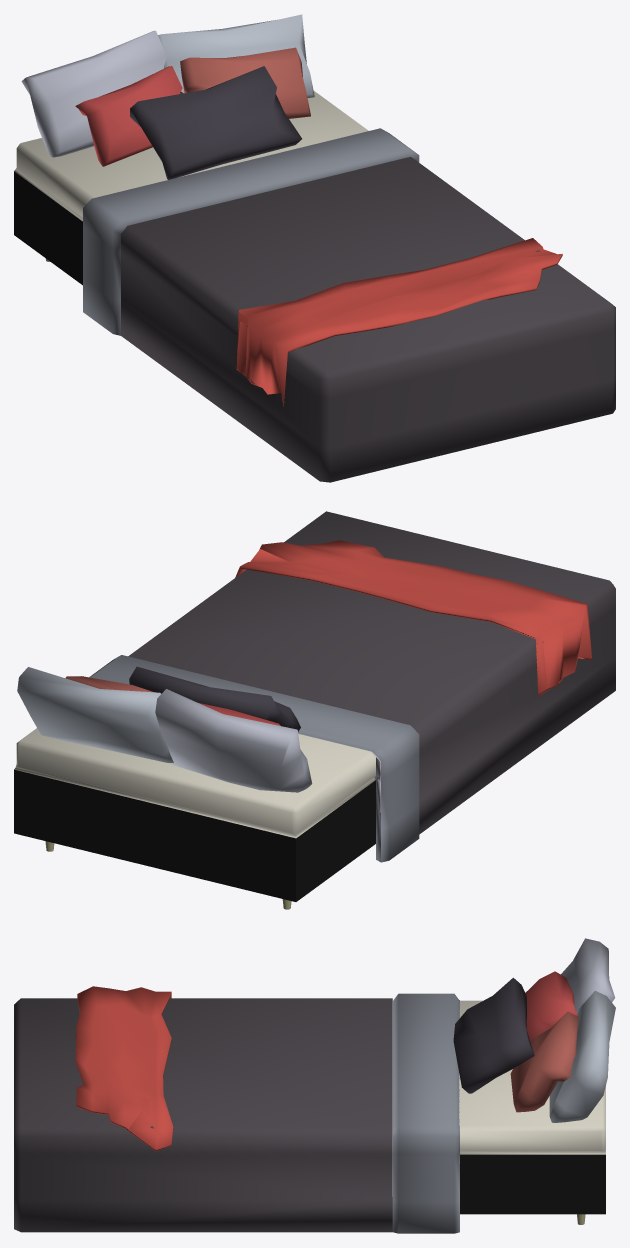
Rendered from timry.bed.fbx.
The picture shows the model from 3 angles, top to bottom: view 1: azimuth 30°, elevation 25°; view 2: azimuth 150°, elevation 25°; view 3: azimuth 270°, elevation 25°; orthographic projection. The views are drawn at different scales.
Visible parts, largest first — view 1: bed, Cube, pillow, pillow.001, pillow.002, pillow.003, pillow.004; view 2: bed, Cube, pillow.001, pillow.002, pillow, pillow.004; view 3: bed, Cube, pillow, pillow.002, pillow.004, pillow.003, pillow.001.
Boxes of the visible parts, x1,y1,x2,y2 form: bed: [14, 91, 615, 482]; Cube: [236, 238, 562, 406]; pillow: [130, 66, 301, 179]; pillow.001: [21, 30, 166, 157]; pillow.002: [158, 14, 314, 97]; pillow.003: [75, 66, 183, 166]; pillow.004: [180, 47, 310, 118]; bed: [14, 511, 615, 909]; Cube: [235, 540, 591, 696]; pillow.001: [155, 689, 312, 792]; pillow.002: [17, 667, 173, 762]; pillow: [129, 666, 300, 731]; pillow.004: [65, 676, 153, 692]; bed: [14, 993, 605, 1233]; Cube: [75, 986, 173, 1151]; pillow: [453, 977, 534, 1093]; pillow.002: [549, 990, 615, 1122]; pillow.004: [510, 1011, 578, 1112]; pillow.003: [525, 971, 577, 1041]; pillow.001: [561, 938, 615, 1012].
Size of the model in its own units: 873 by 529 by 1567.
